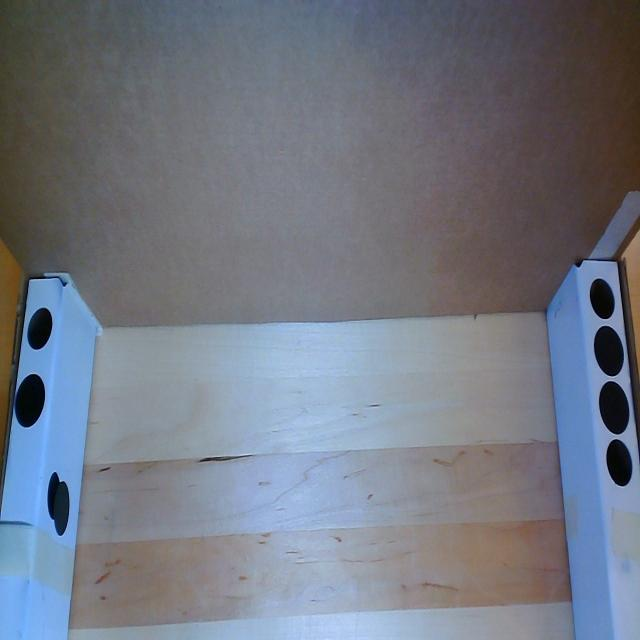Hole: (606, 434, 634, 489), (27, 302, 53, 350), (588, 276, 616, 320), (45, 469, 61, 518)
Sticker: (13, 372, 46, 431), (598, 379, 632, 436), (592, 326, 628, 377), (52, 481, 71, 538)
